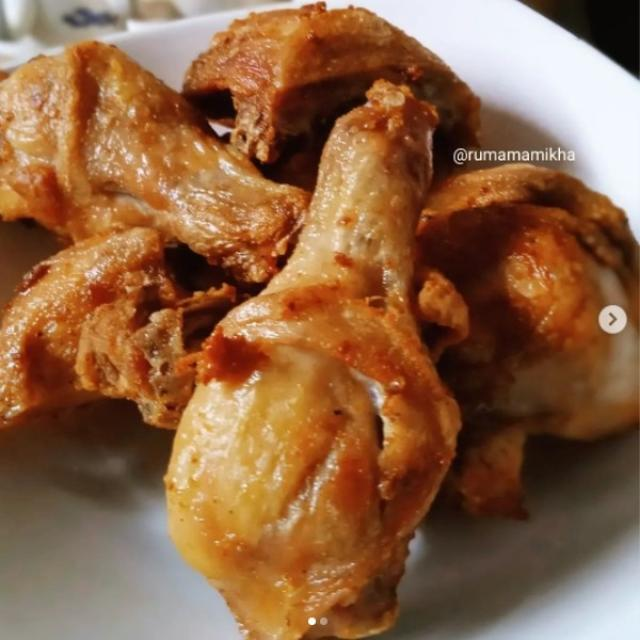CHICKEN FRY: (0, 6, 639, 639)
